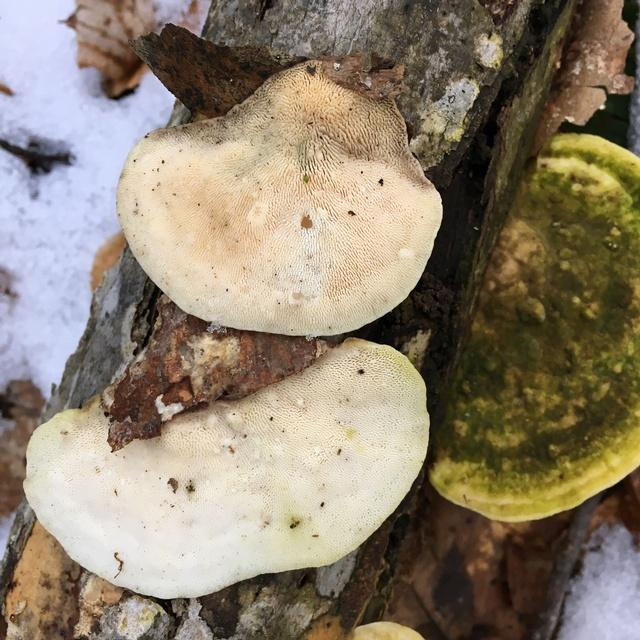Non-edible Mushroom: (21, 333, 431, 599), (114, 58, 444, 337), (425, 123, 640, 511)
